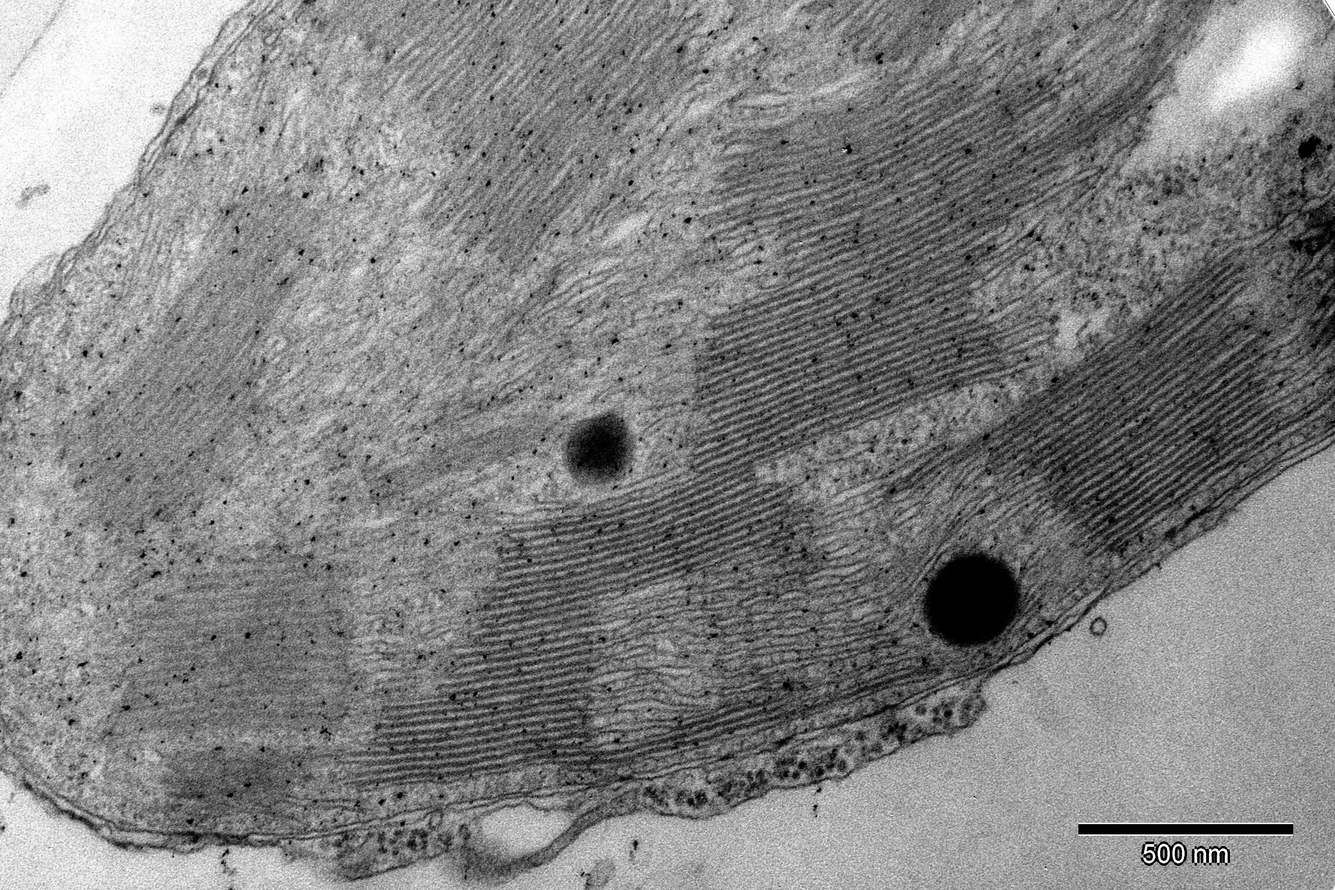granum: (688, 27, 1185, 466), (286, 0, 729, 284), (964, 237, 1295, 570), (48, 179, 334, 559), (336, 500, 602, 797), (592, 303, 811, 613), (106, 525, 359, 752), (357, 407, 545, 515), (799, 0, 997, 72), (157, 734, 301, 830), (669, 687, 802, 757)
